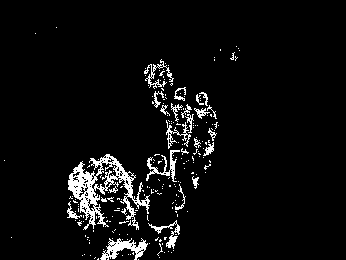person: (140, 151, 186, 257), (68, 153, 114, 238), (107, 169, 144, 260), (162, 84, 193, 178), (189, 92, 219, 186)
